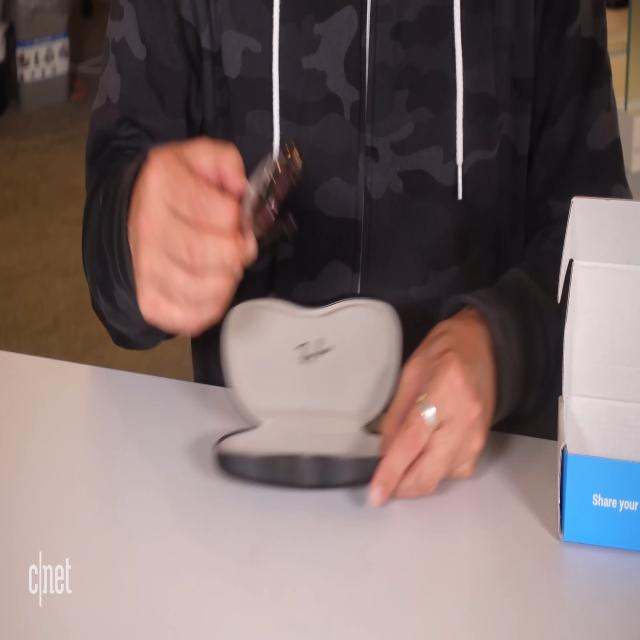dress: (76, 0, 637, 506)
glasses: (229, 130, 304, 241)
